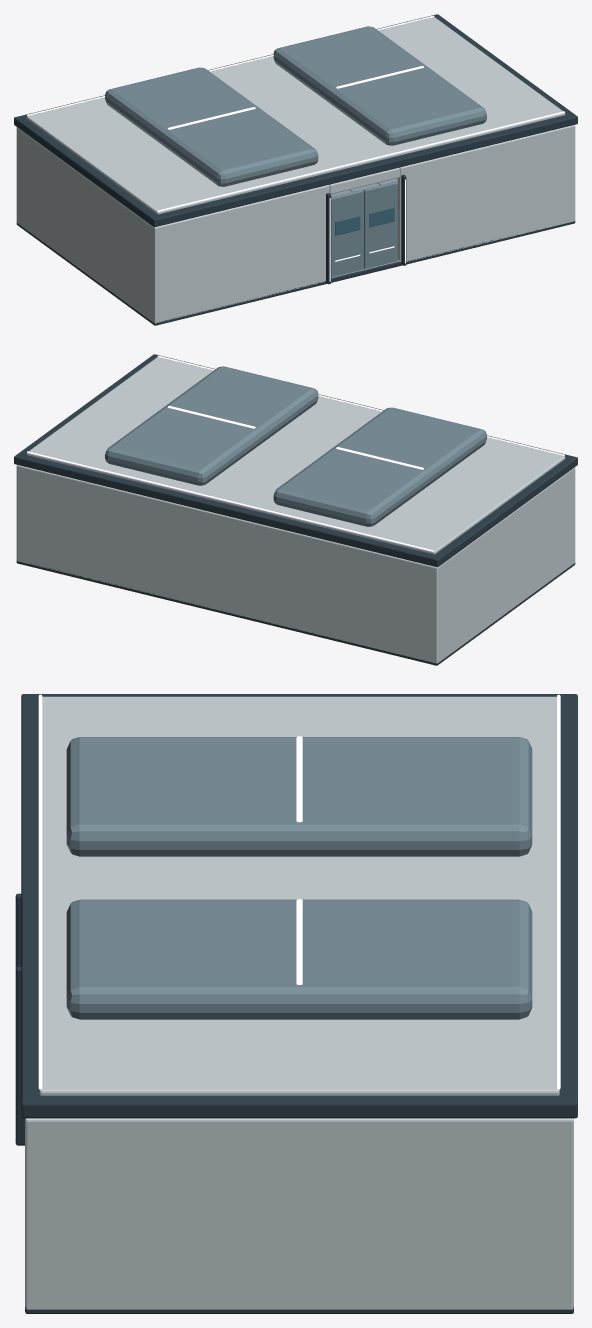
Rendered from gym-shell.glb.
The picture shows the model from 3 angles, top to bottom: view 1: azimuth 30°, elevation 25°; view 2: azimuth 150°, elevation 25°; view 3: azimuth 270°, elevation 25°; orthographic projection. The views are drawn at different scales.
Parts seen in each view (by area): view 1: Cutaway_Ivory, Roof_Ivory, Roof_Steel, Roof_Dark, DoorRight_Steel, DoorLeft_Steel, Floor_Dark, Roof_Accent, Cutaway_Dark; view 2: Back_Ivory, Roof_Ivory, Roof_Steel, Cutaway_Ivory, Roof_Dark, Roof_Accent, Floor_Dark; view 3: Roof_Steel, Cutaway_Ivory, Roof_Ivory, Roof_Dark, Roof_Accent, Floor_Dark, Cutaway_Dark, Back_Ivory.
Boxes of the visible parts, <box> form: Cutaway_Ivory: <box>16,125,575,323</box>; Roof_Ivory: <box>26,17,565,214</box>; Roof_Steel: <box>105,26,486,186</box>; Roof_Dark: <box>14,14,577,227</box>; DoorRight_Steel: <box>363,181,397,268</box>; DoorLeft_Steel: <box>331,190,363,277</box>; Floor_Dark: <box>16,183,575,325</box>; Roof_Accent: <box>27,15,564,211</box>; Cutaway_Dark: <box>326,174,406,284</box>; Back_Ivory: <box>17,466,439,663</box>; Roof_Ivory: <box>26,357,565,554</box>; Roof_Steel: <box>105,366,486,526</box>; Cutaway_Ivory: <box>16,465,575,663</box>; Roof_Dark: <box>14,354,577,567</box>; Roof_Accent: <box>27,355,564,551</box>; Floor_Dark: <box>16,560,575,665</box>; Roof_Steel: <box>66,737,532,1019</box>; Cutaway_Ivory: <box>25,1118,573,1309</box>; Roof_Ivory: <box>39,696,559,1095</box>; Roof_Dark: <box>21,694,577,1118</box>; Roof_Accent: <box>38,694,560,1089</box>; Floor_Dark: <box>25,1307,573,1313</box>; Cutaway_Dark: <box>15,893,24,1145</box>; Back_Ivory: <box>563,1118,573,1309</box>.
Bounding box in the file's own units: 15.12 × 4.33 × 8.78.
